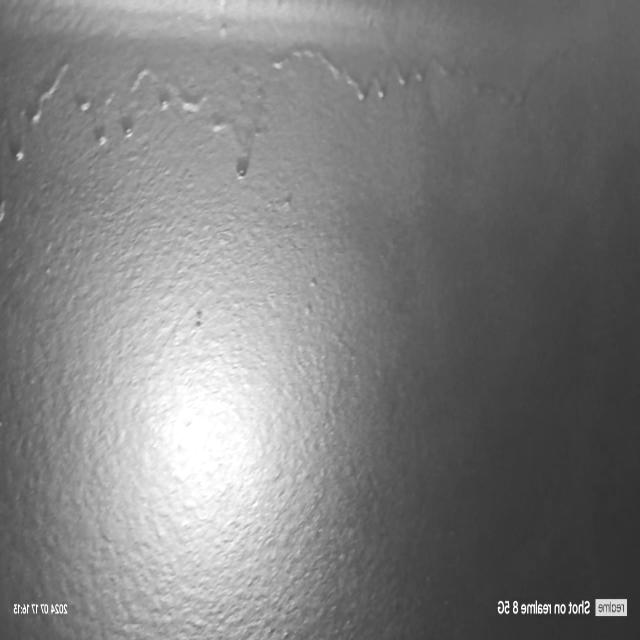paint drips: (0, 31, 584, 245)
